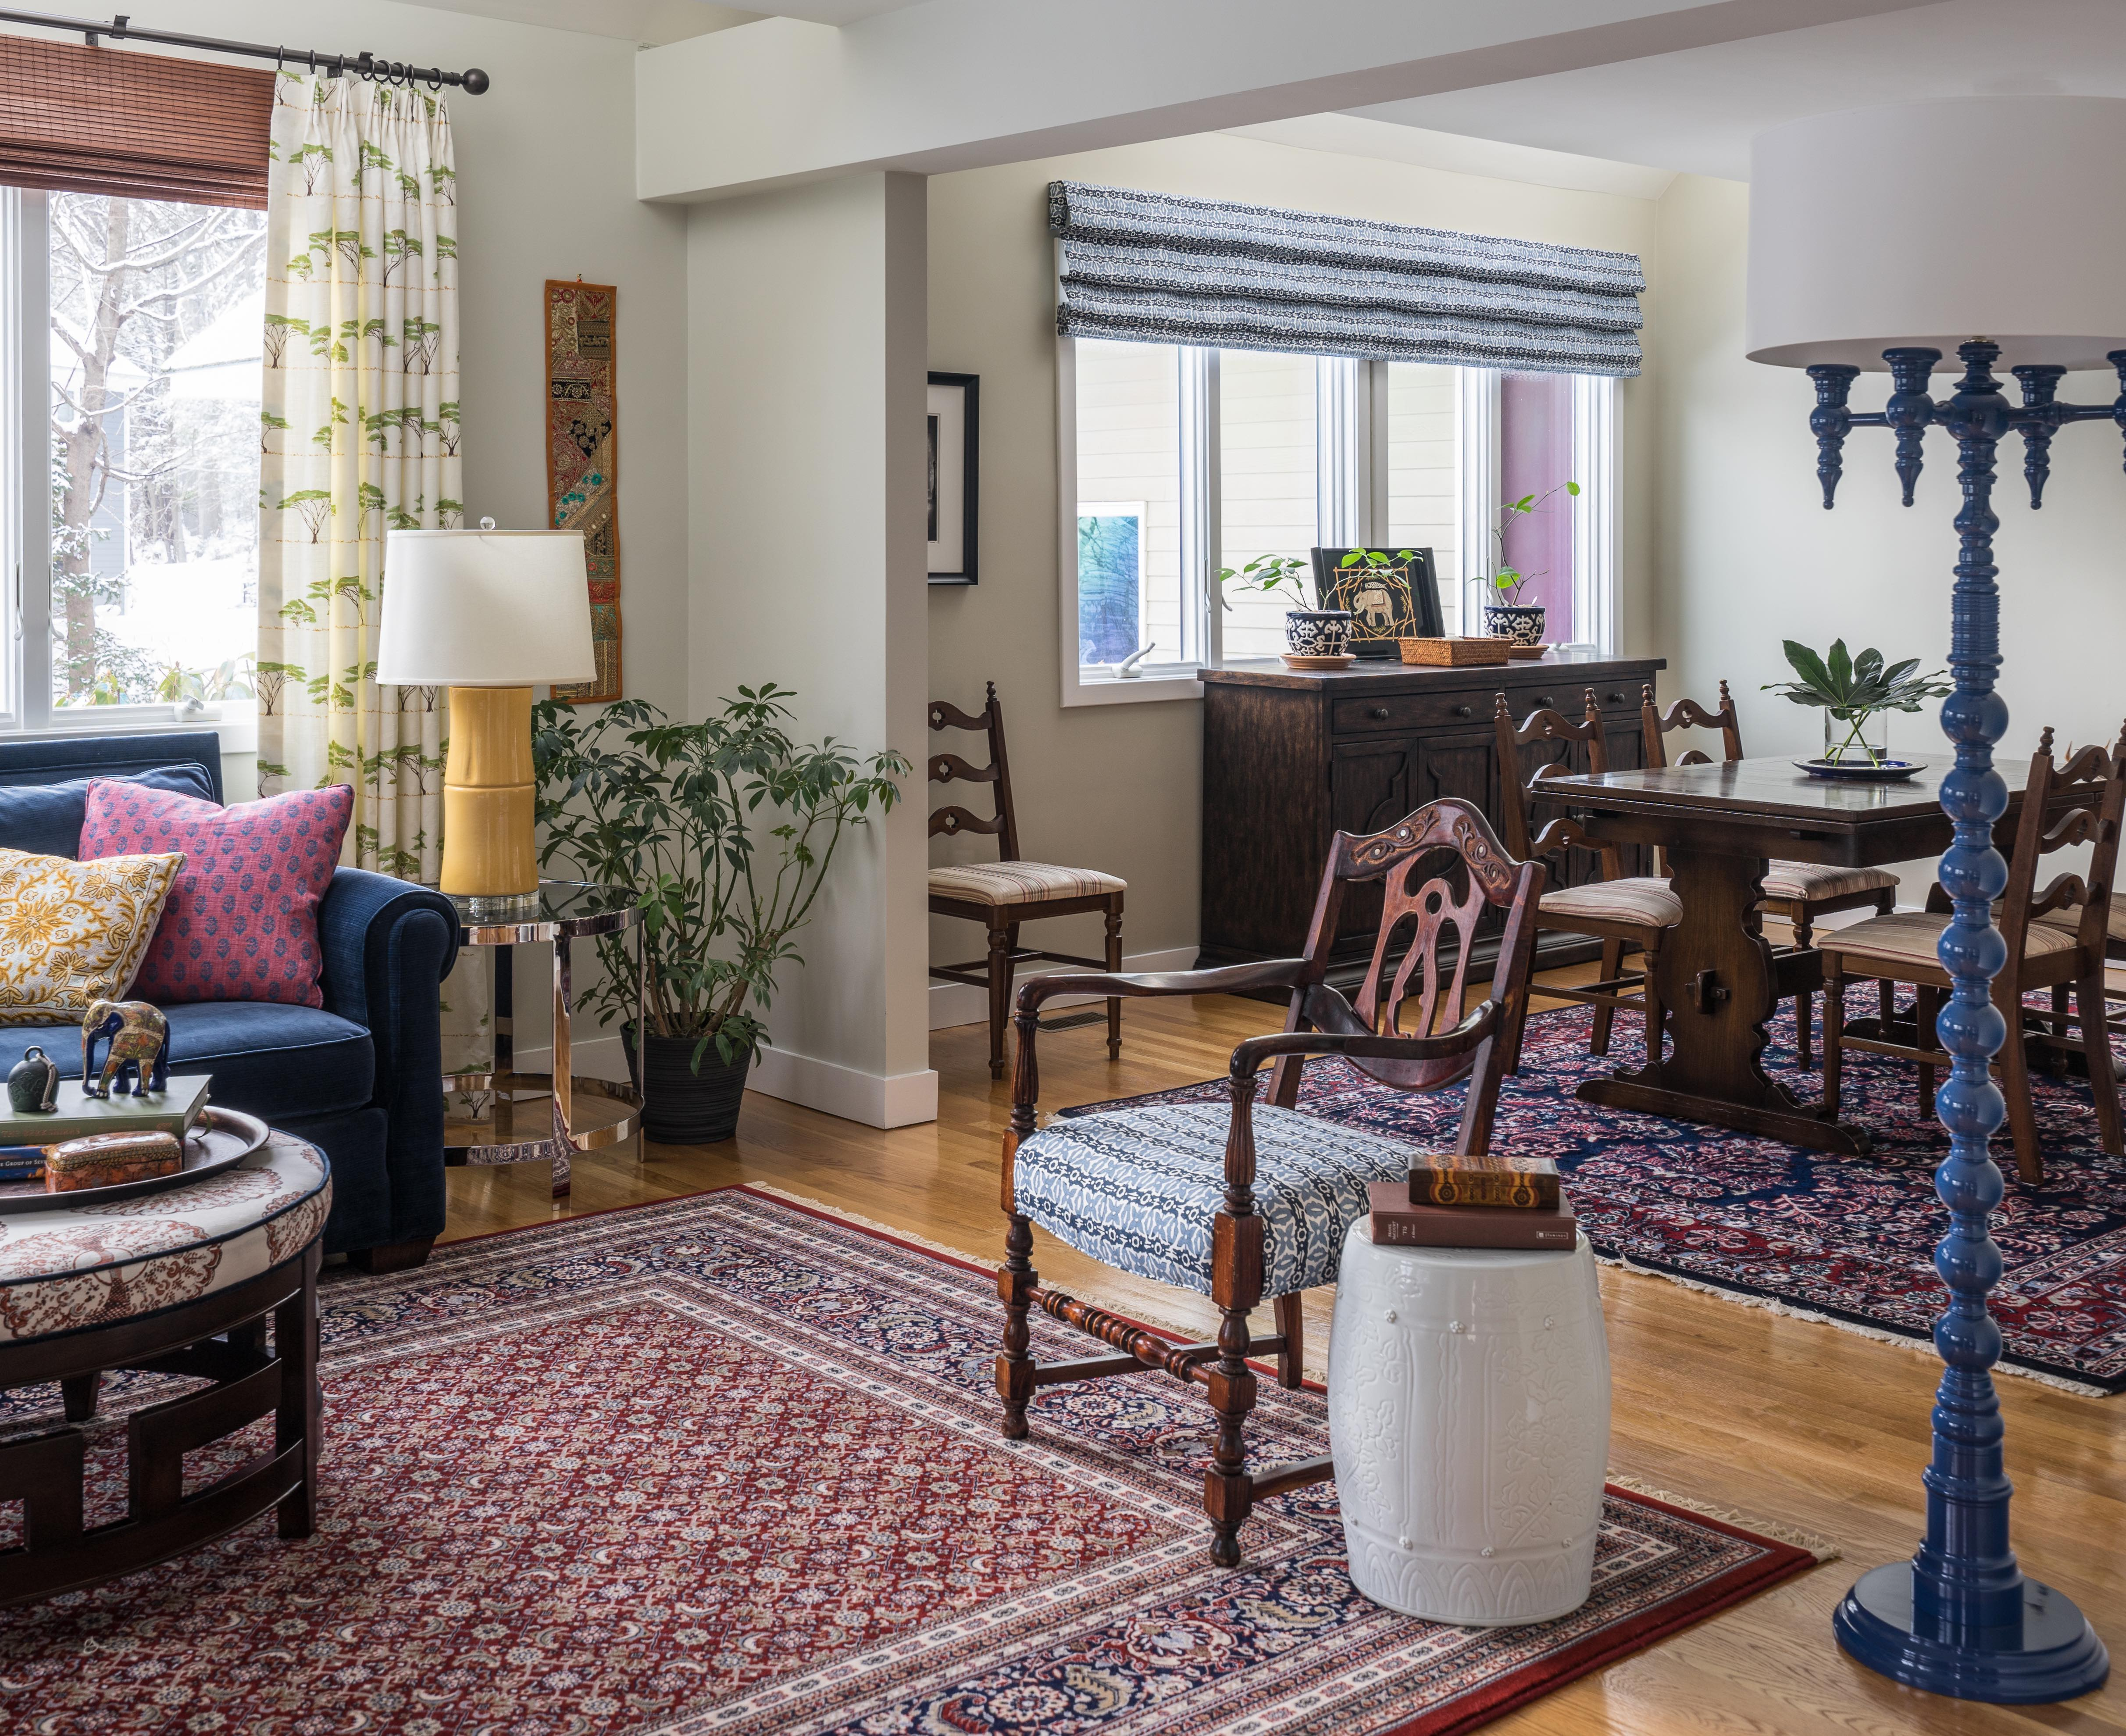biru: (1796, 364, 2126, 1710), (0, 728, 433, 1107)
coklat: (1510, 766, 2121, 1146), (1208, 659, 1653, 917)
putih: (1328, 1229, 1603, 1621), (1745, 106, 2126, 344), (373, 526, 609, 687)
